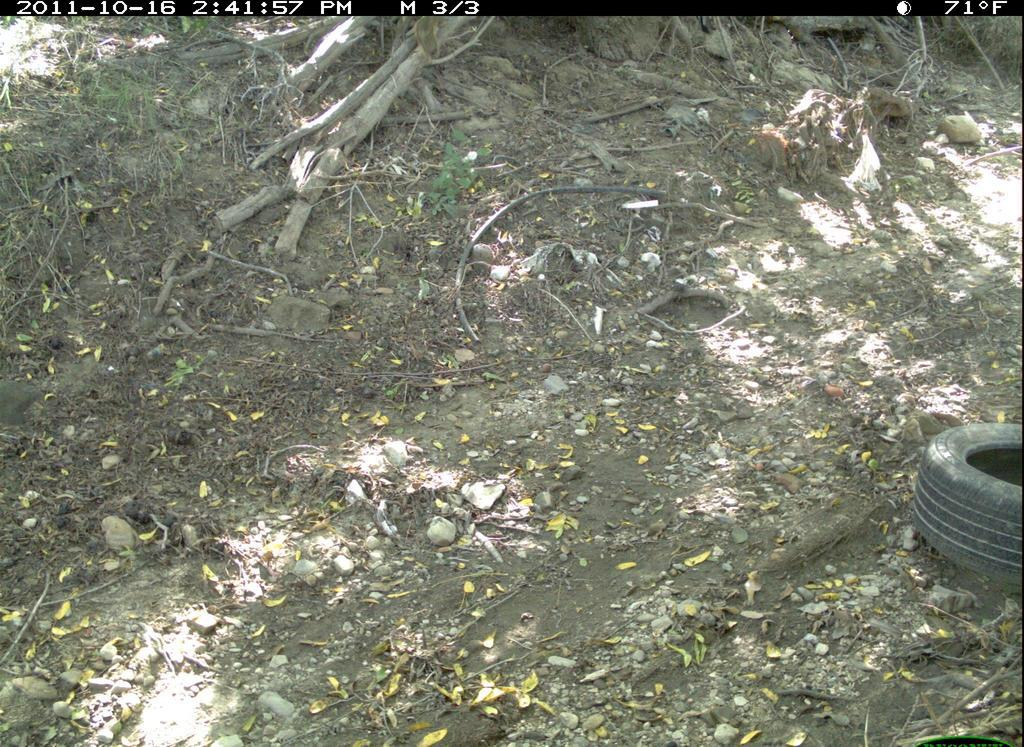squirrel: (409, 14, 457, 63)
